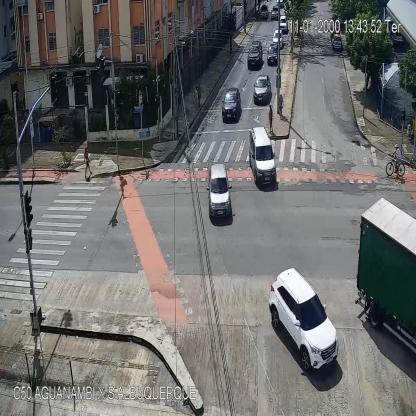bicycle: (386, 143, 406, 179)
car: (269, 266, 338, 369), (250, 126, 277, 186), (207, 163, 233, 221), (221, 88, 242, 122), (253, 76, 271, 103), (247, 42, 263, 66), (271, 28, 284, 51), (267, 44, 278, 64), (278, 13, 288, 34), (279, 16, 288, 32), (259, 5, 268, 19), (272, 6, 280, 20), (334, 35, 341, 48)
person: (84, 147, 93, 180), (268, 104, 274, 135), (193, 84, 199, 110), (278, 92, 284, 117), (197, 86, 202, 109)
truck: (358, 196, 415, 336)
